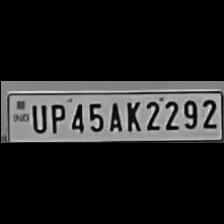2: (198, 96, 218, 130), (142, 98, 160, 132), (161, 97, 179, 130)
4: (66, 100, 84, 132)
5: (85, 99, 105, 133)
9: (179, 96, 197, 130)
A: (105, 99, 123, 133)
K: (121, 99, 141, 133)
P: (46, 100, 64, 134)
U: (28, 100, 46, 134)
